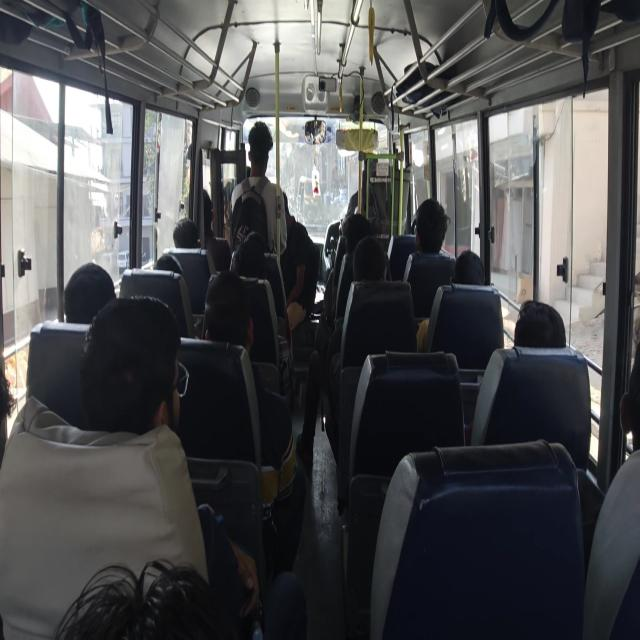person: (118, 276, 201, 482), (90, 569, 290, 640), (500, 284, 572, 384), (600, 324, 640, 493), (0, 329, 31, 484), (59, 261, 122, 323), (212, 270, 258, 344), (281, 208, 315, 302), (248, 121, 302, 175), (410, 200, 456, 254), (354, 240, 388, 291), (442, 240, 478, 284), (335, 203, 373, 230), (155, 236, 190, 265), (235, 240, 266, 272), (401, 202, 420, 233), (240, 218, 262, 238), (168, 227, 208, 238)
